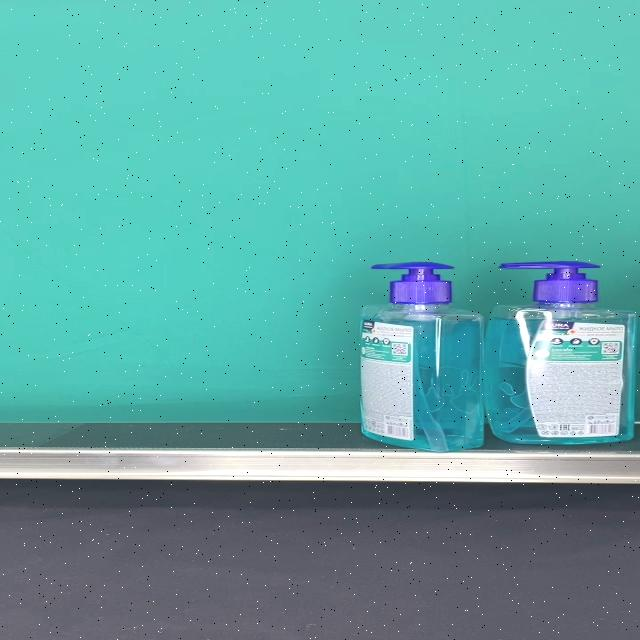Bottle: (485, 261, 637, 445), (359, 262, 484, 451)
Cap: (500, 261, 600, 303), (372, 263, 453, 304)
